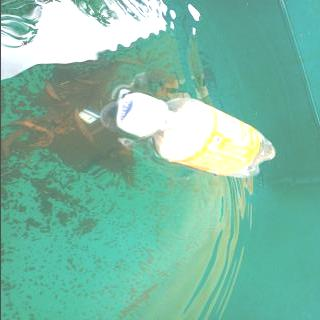bottle: (114, 90, 278, 180)
